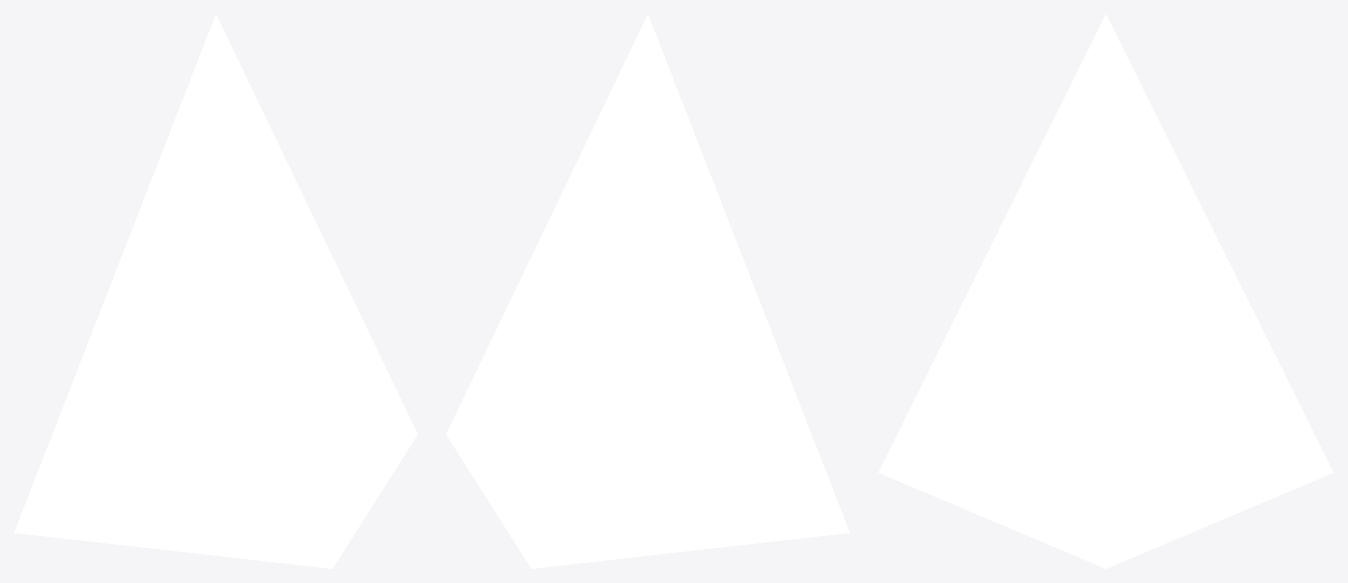
Rendered from SM_cv_flame_violet.glb.
The picture shows the model from 3 angles, left to right: view 1: azimuth 30°, elevation 25°; view 2: azimuth 150°, elevation 25°; view 3: azimuth 270°, elevation 25°; orthographic projection. The views are drawn at different scales.
Visible parts, largest first — view 1: SM_cv_flame_violet; view 2: SM_cv_flame_violet; view 3: SM_cv_flame_violet.
Boxes of the visible parts, x1=… form: SM_cv_flame_violet: x1=14, y1=14, x2=417, y2=568; SM_cv_flame_violet: x1=446, y1=14, x2=849, y2=568; SM_cv_flame_violet: x1=878, y1=14, x2=1333, y2=568.
Size of the model in its own units: 0.9 by 1 by 0.9.
